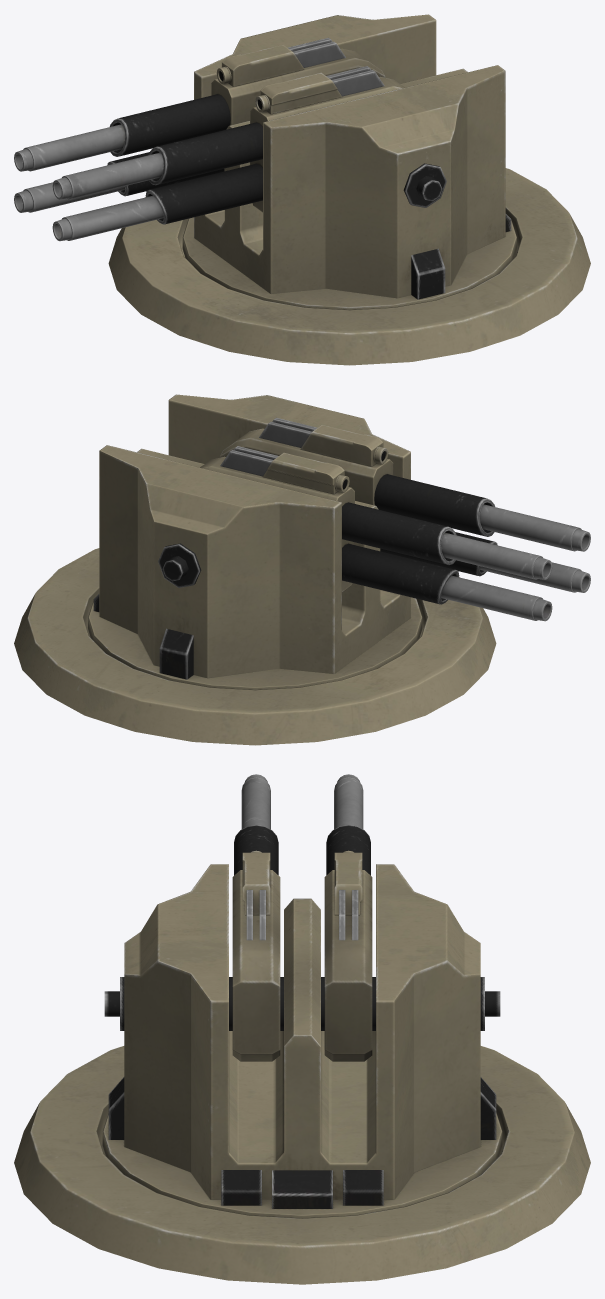
File: Sci Fi AA Turret.obj
The picture shows the model from 3 angles, top to bottom: view 1: azimuth 30°, elevation 25°; view 2: azimuth 150°, elevation 25°; view 3: azimuth 270°, elevation 25°; orthographic projection. The views are drawn at different scales.
Parts seen in each view (by area): view 1: Sci_Fi_AA_Turret_; view 2: Sci_Fi_AA_Turret_; view 3: Sci_Fi_AA_Turret_.
Part boxes in pixels (<box>): Sci_Fi_AA_Turret_: <box>14,14,590,365</box>; Sci_Fi_AA_Turret_: <box>14,394,590,745</box>; Sci_Fi_AA_Turret_: <box>14,774,590,1284</box>.
Size of the model in its own units: 341 by 132 by 274.
1 material, 1 textured.
